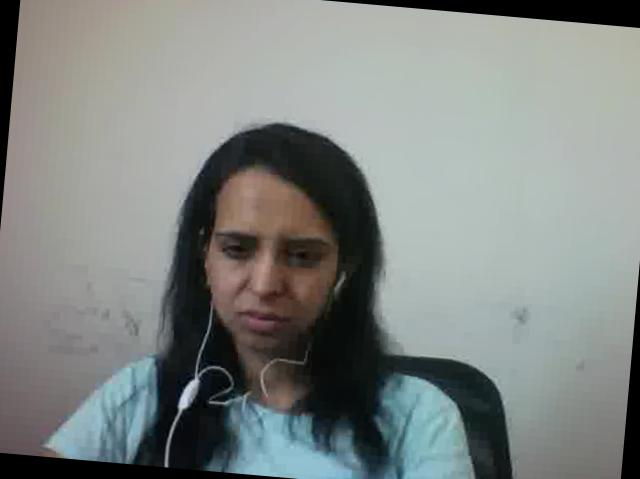bingung: (202, 174, 352, 364)
